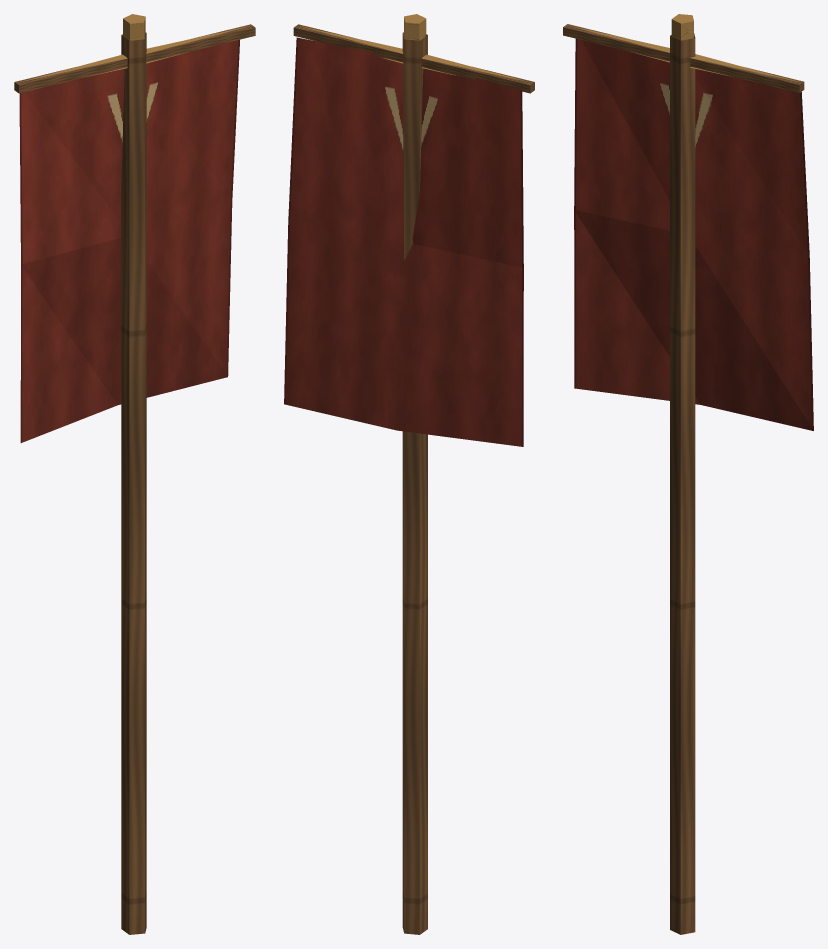
The model's file is ae_battle_banner_atk_lod1.glb.
3 renders of one model, left to right at view 1: azimuth 30°, elevation 25°; view 2: azimuth 150°, elevation 25°; view 3: azimuth 330°, elevation 25°, orthographic.
Visible parts, largest first — view 1: ae_battle_banner_atk_lod1; view 2: ae_battle_banner_atk_lod1; view 3: ae_battle_banner_atk_lod1.
Boxes of the visible parts, left/top/right/bottom form: ae_battle_banner_atk_lod1: left=14, top=14, right=255, bottom=934; ae_battle_banner_atk_lod1: left=284, top=14, right=534, bottom=934; ae_battle_banner_atk_lod1: left=563, top=14, right=813, bottom=934.
Bounding box in the file's own units: 3.6 × 13.24 × 0.6613.
Materials: 1 (1 with a texture image).
